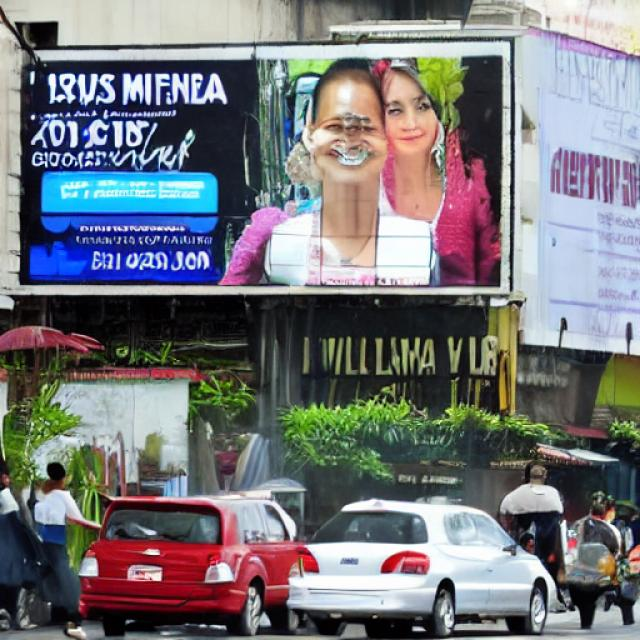Billboard: (15, 38, 518, 302)
